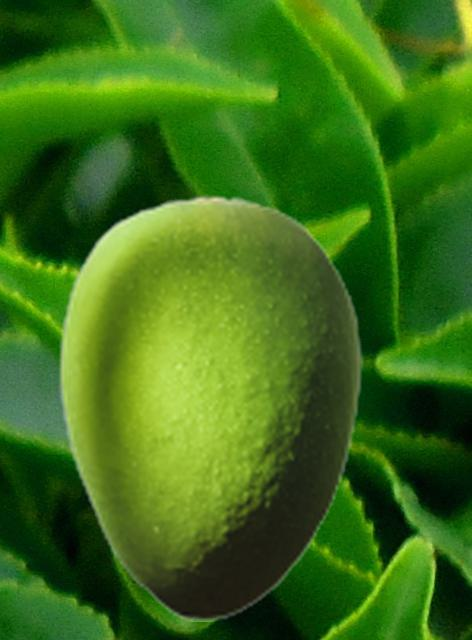green_mango: (57, 194, 362, 620)
